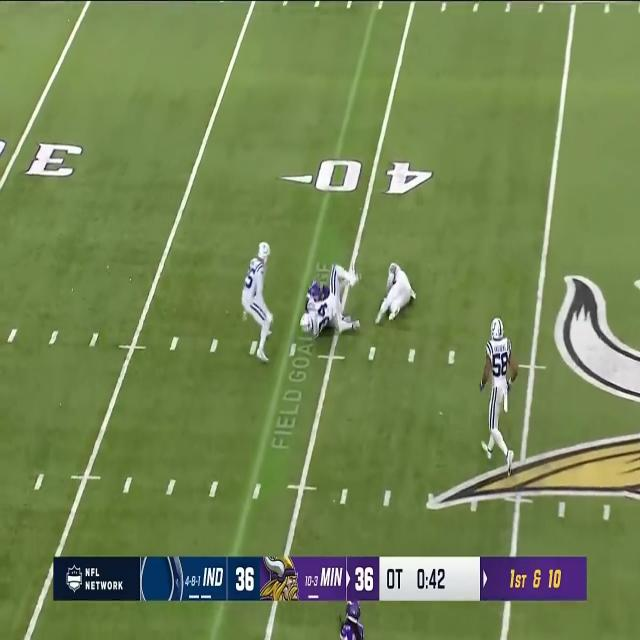players: (480, 312, 517, 475), (314, 263, 360, 350), (242, 238, 274, 363), (375, 259, 414, 328), (330, 603, 374, 640)
